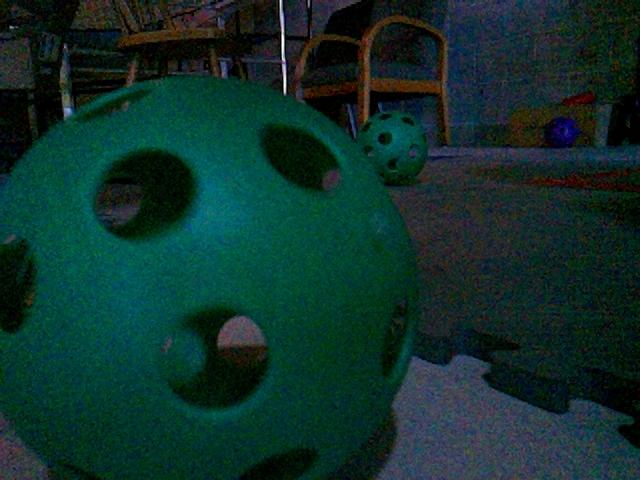Green: (0, 77, 419, 479), (356, 111, 429, 185)
Purple: (543, 116, 582, 148)
